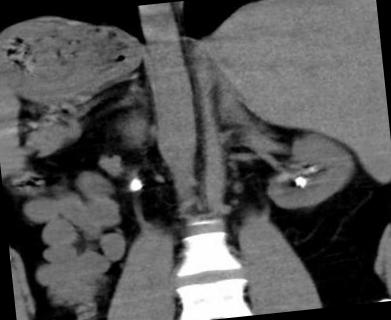Tas_Var: (124, 172, 144, 196), (291, 174, 307, 192), (304, 163, 319, 174)
